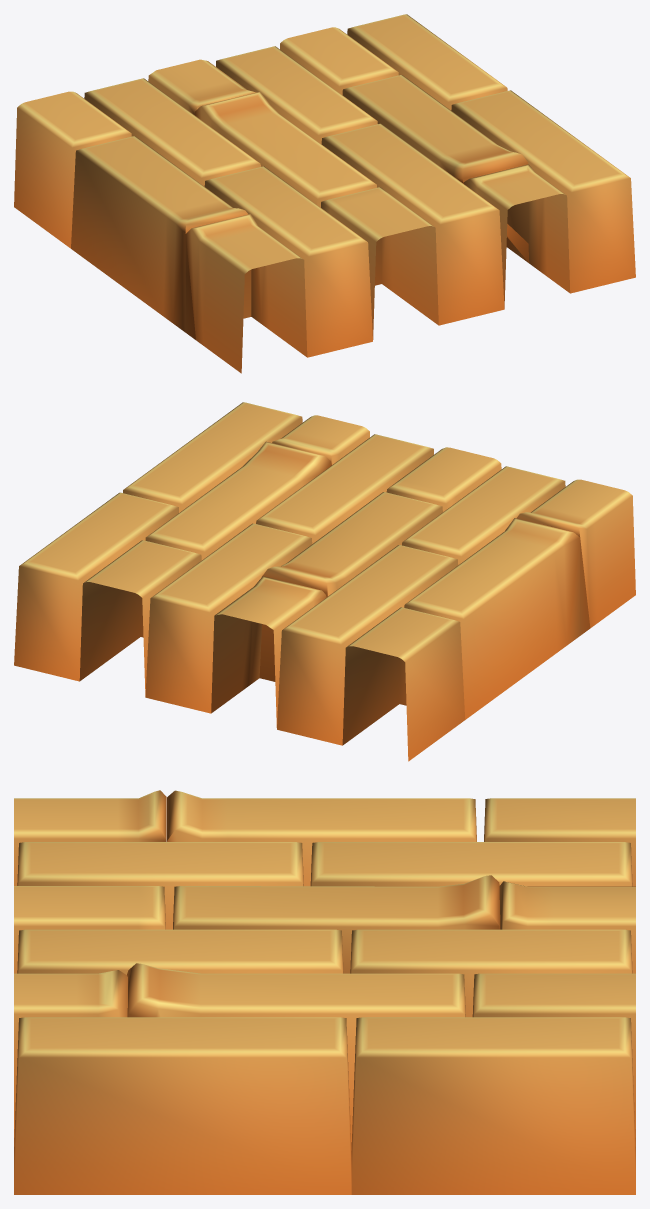
File: WoodFloor.fbx
3 renders of one model, top to bottom at view 1: azimuth 30°, elevation 25°; view 2: azimuth 150°, elevation 25°; view 3: azimuth 270°, elevation 25°, orthographic. The views are drawn at different scales.
Visible parts, largest first — view 1: WoodFloor; view 2: WoodFloor; view 3: WoodFloor.
Part boxes in pixels (bbox=[...]): WoodFloor: bbox=[14, 14, 635, 373]; WoodFloor: bbox=[14, 402, 635, 761]; WoodFloor: bbox=[14, 790, 635, 1194].
Size of the model in its own units: 0.525 by 2 by 2.
